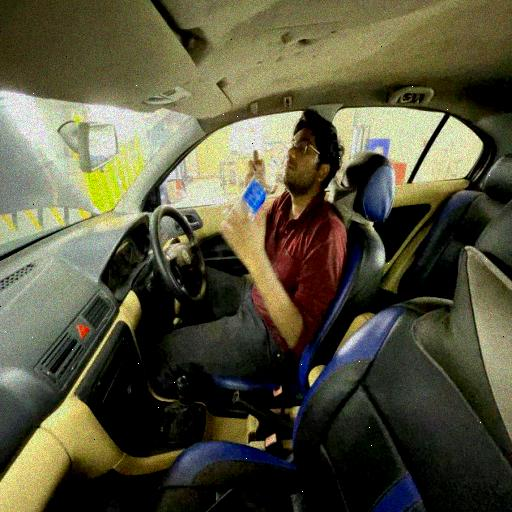Drinking: (206, 107, 351, 391)
